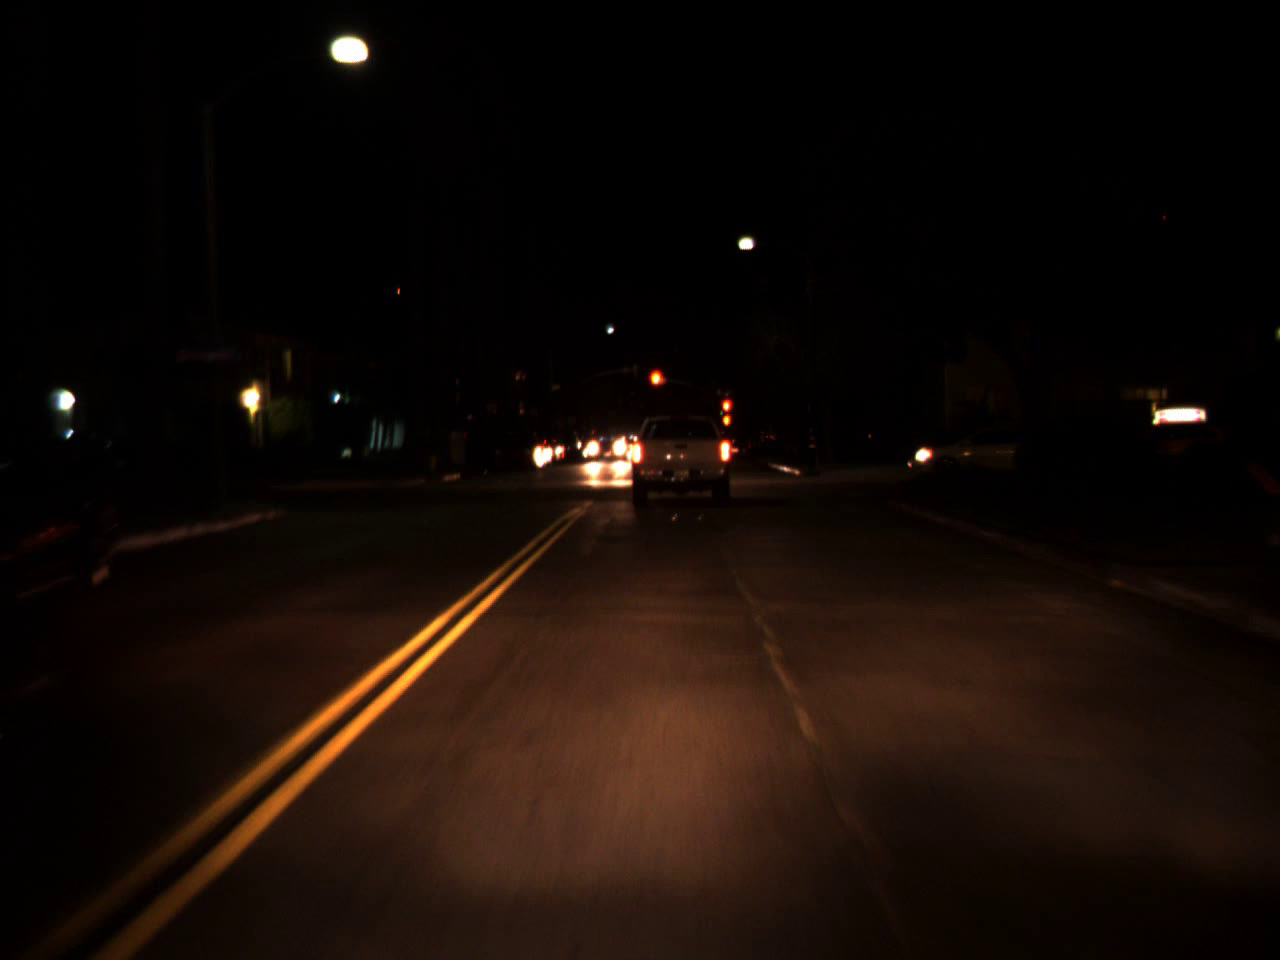stop: (648, 367, 666, 402), (721, 398, 731, 425)
